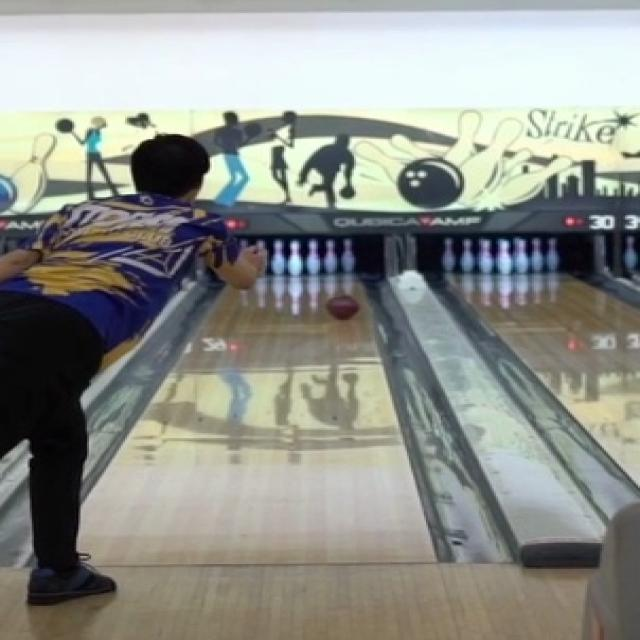alley: (83, 276, 430, 566)
balls: (326, 294, 358, 320)
bottle: (267, 238, 358, 275)
